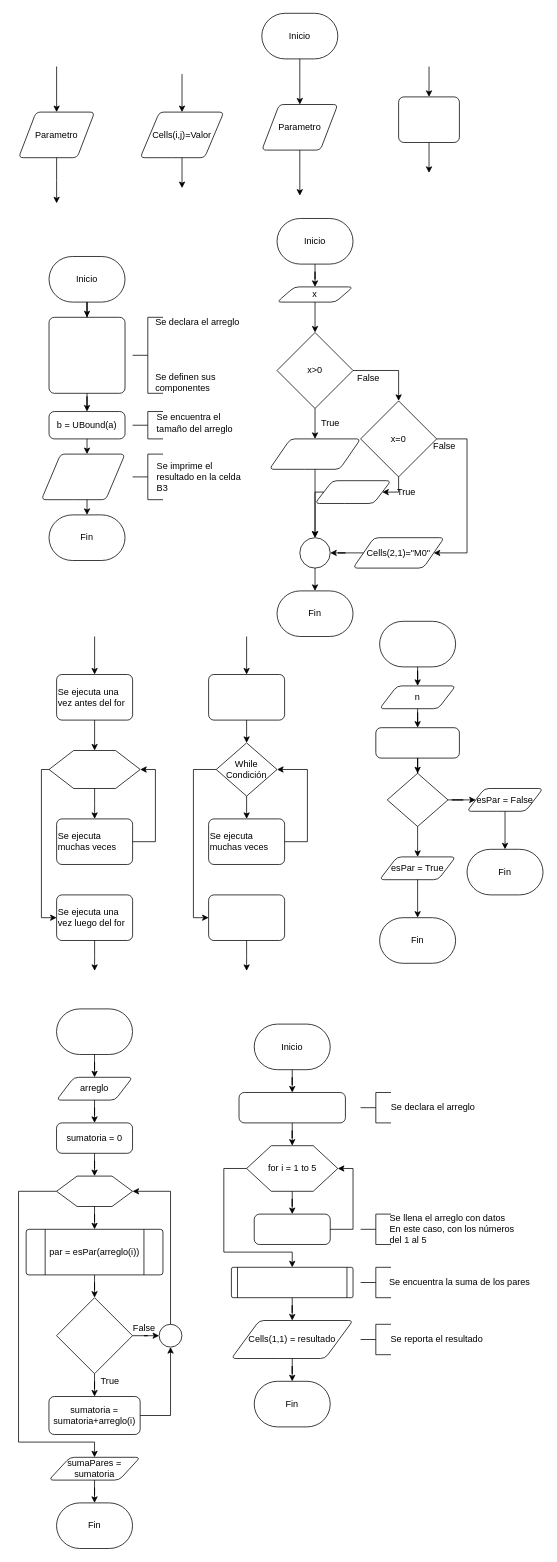
Image size: 557x1562. Some labels were removed from this diagram. The shapes that lost their labels are listed below. From the top down, each one's centre as x and y in pixels, then its label:
(428,119): c = a + b
(86,355): Dim a(1 to 5) as .. a(1) = 4 a(2) = 9 a(3) = 16 a(4) = 25 a(5) = 36
(315,453): Cells(1,2)="m0"
(83,476): Cells(3,2)=b
(352,492): Cells(1,2)="0"
(417,644): esPar
(246,697): Se ejecuta una vez antes del ciclo
(417,742): residuo = n mod 2
(94,769): for i = 1 to 10
(417,799): residuo = 0
(246,917): Se ejecuta una vez luego del ciclo
(94,1031): sumaPares
(291,1107): Dim a(1 to 5) as Integer
(94,1190): for i = 1 to UBound
(291,1228): a(i) = i
(292,1282): resultado = sumaPares(a)
(94,1335): if par
